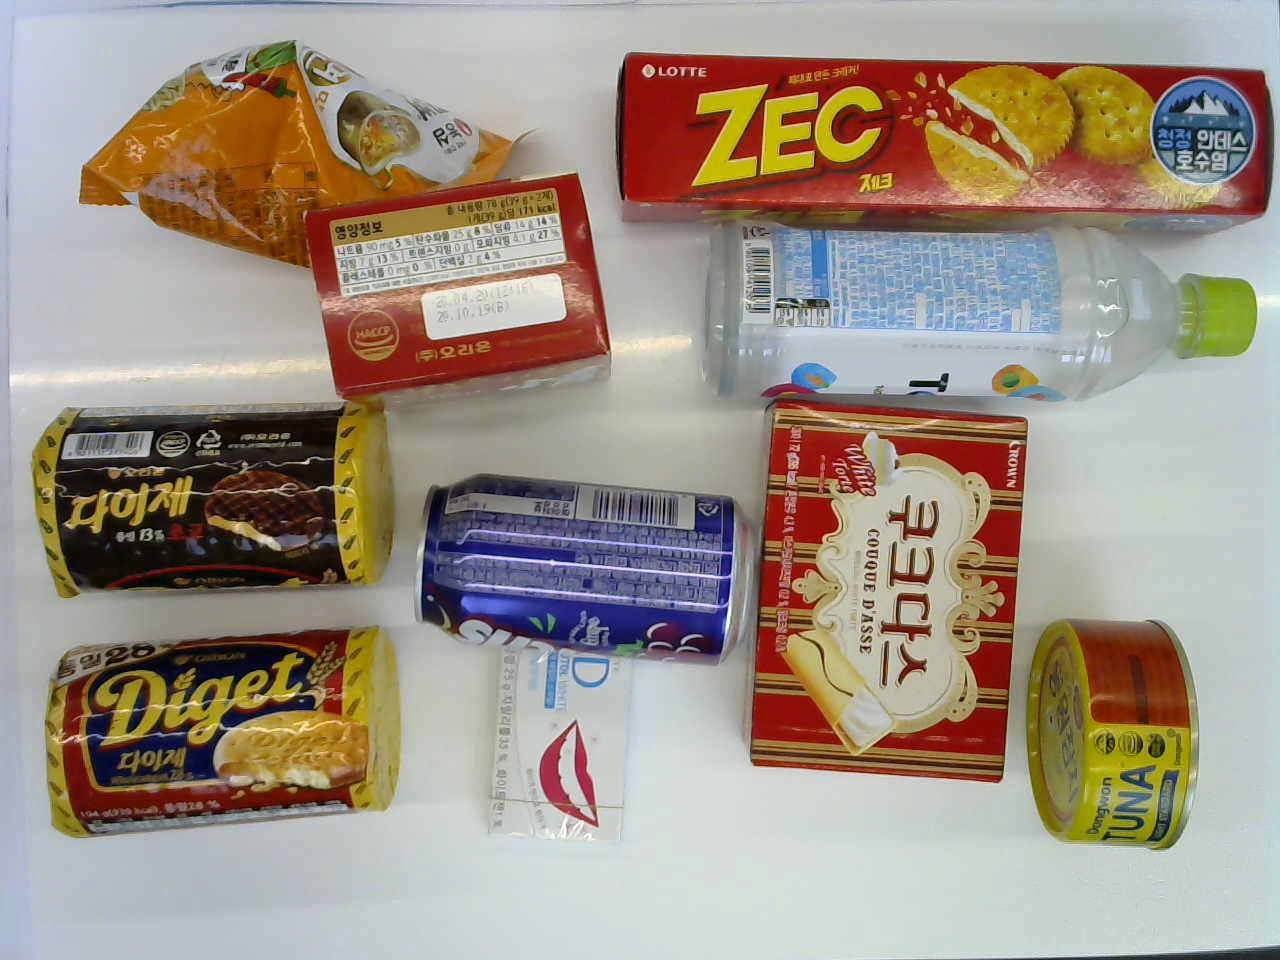ID_gum: (483, 644, 636, 847)
chocopie: (309, 168, 621, 410)
couque_white: (742, 409, 1023, 783)
diget_choco: (29, 404, 389, 582)
diget_ori: (39, 623, 403, 827)
jjolbyung_noodle: (72, 40, 532, 295)
toreta: (692, 216, 1255, 407)
tuna: (1027, 611, 1197, 857)
welchs: (408, 473, 748, 667)
zec: (615, 53, 1272, 239)
